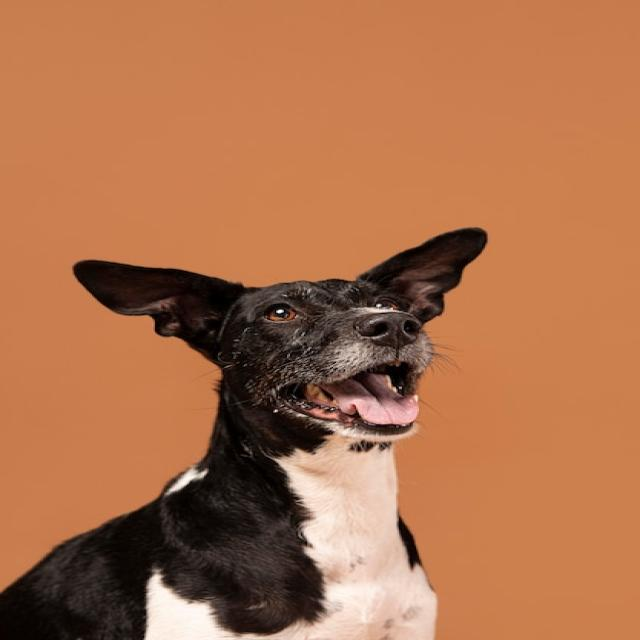Dog: (0, 227, 487, 639)
